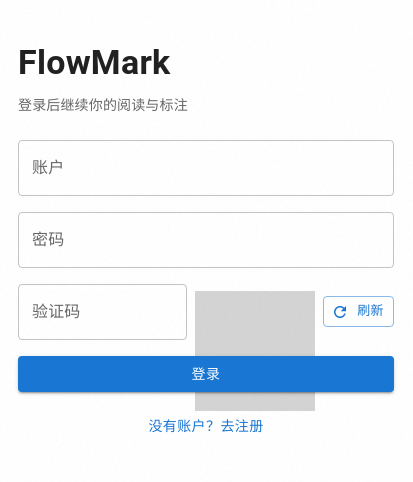
LoginPage › maps unregistered account error to unified message in login mode
Type "missing-user" into the field labelled "账户". click: (206, 168)
box: [18, 140, 394, 196]
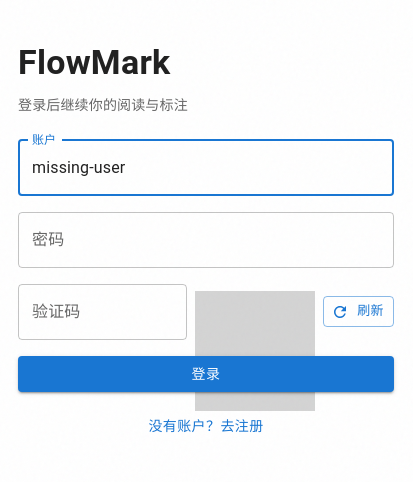
Type "pass123" into the password field labelled "密码". click: (206, 240)
box: [18, 212, 394, 268]
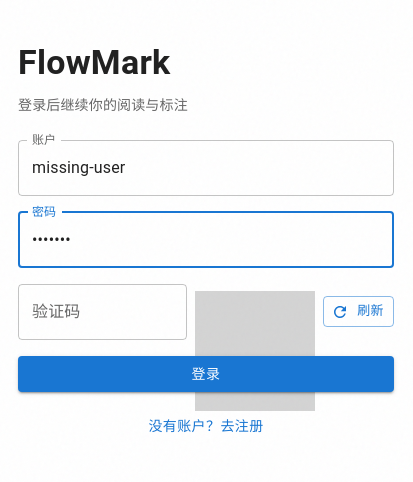
Type "a1b2" into the field labelled "验证码". click: (103, 312)
box: [18, 284, 187, 340]
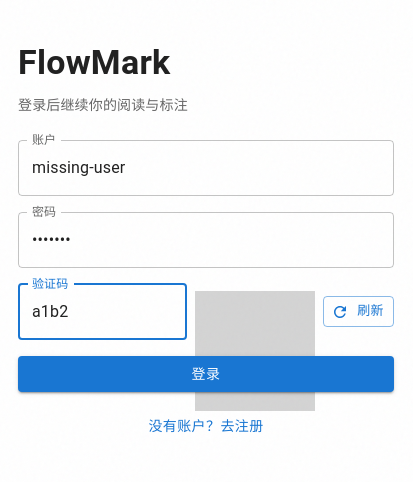
Click the button "登录". click: (206, 374)
box: [18, 356, 394, 392]
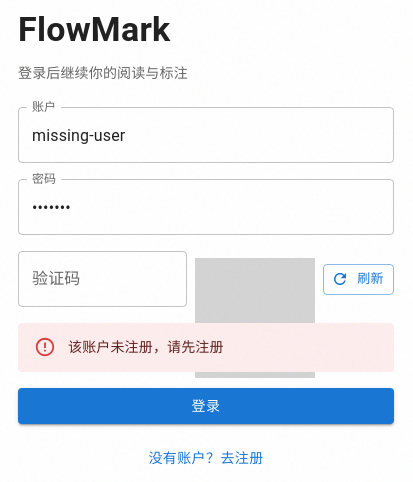
Expected: the text "该账户未注册，请先注册" is shown, [68, 340, 224, 356]
